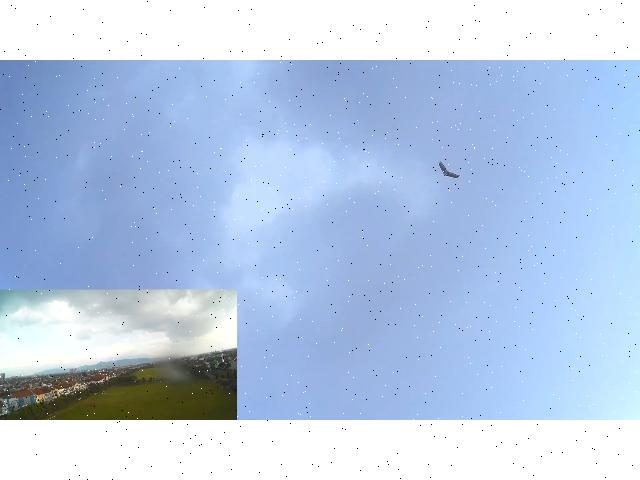Anti-Drone: (440, 162, 460, 178)
